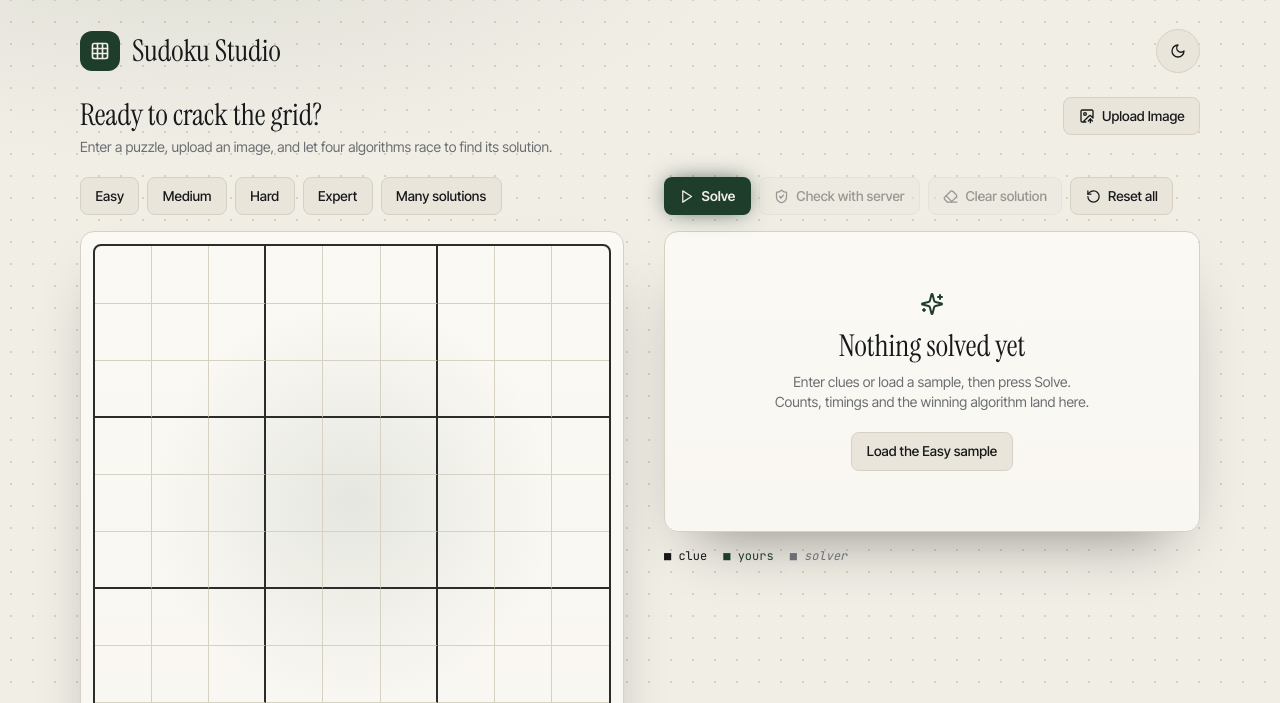
Test: App Integration - Upload Sudoku Image Workflow › switches to the Upload workspace and preserves board state
The width and height of the screenshot is (1280, 703).
# Load easy sample
Click the button "Easy" at (110,196), box [80,177,139,215]
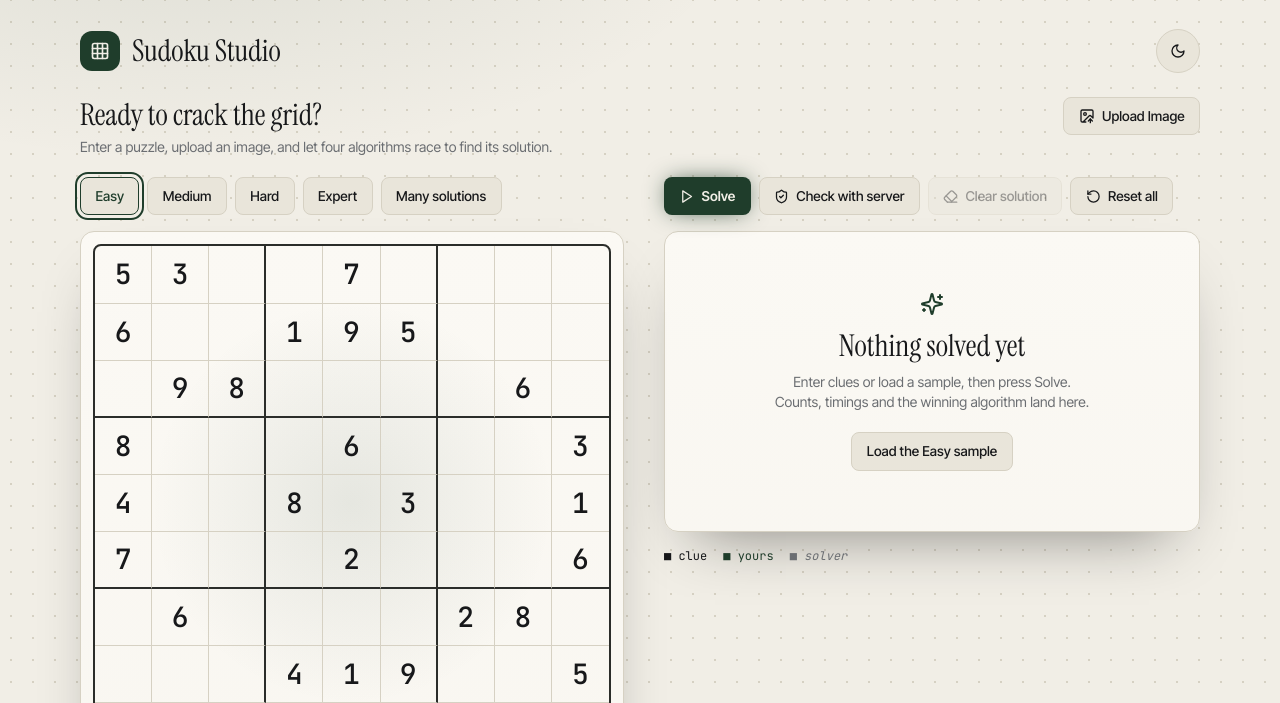
# Click "Upload Image"
Click the button with aria-label "Upload Sudoku Image" at (1132,116), box [1063,97,1200,135]
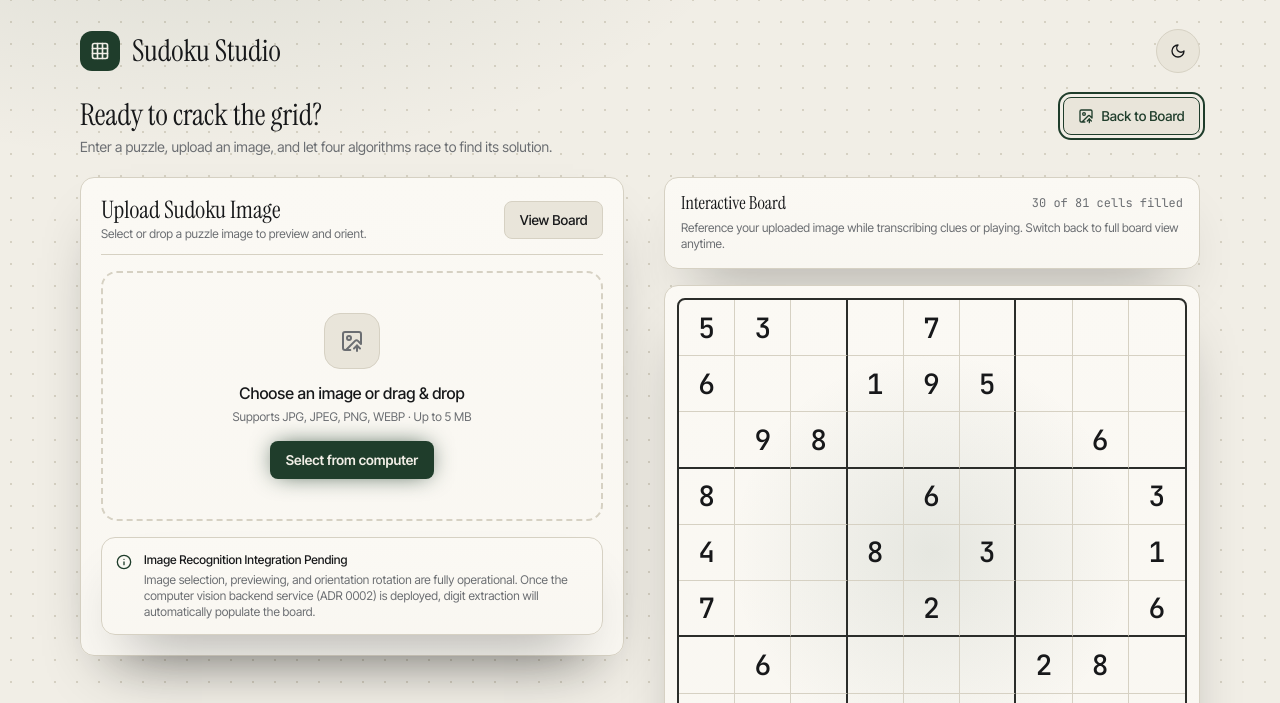
Expected: the heading "Upload Sudoku Image" is shown, [101,194,280,225]
Expected: the button with test id "upload-dropzone" is shown, [101,271,603,521]
Expected: the heading "Interactive Board" is shown, [681,194,786,212]
# Switch back to board
Click the button "Back to Board" at (1132,116), box [1063,97,1200,135]
(page scrolled)
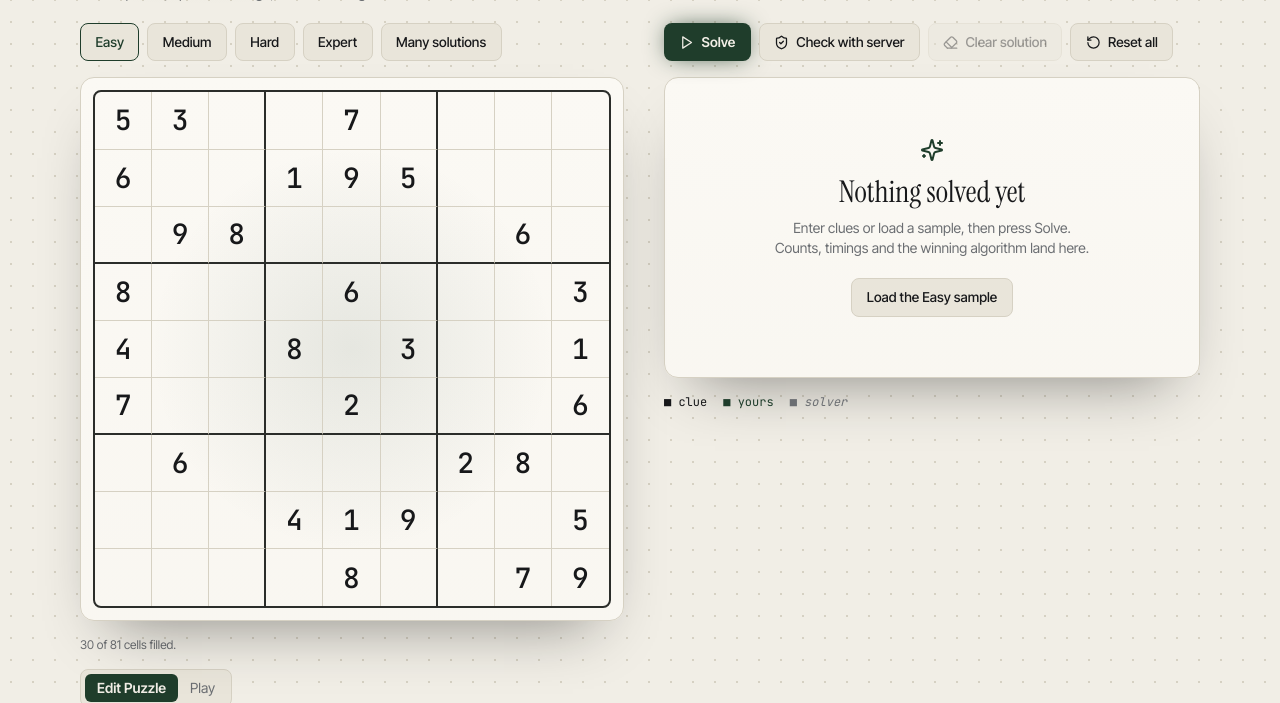
Expected: the table named "Sudoku board" is shown, [93,90,611,608]
Expected: the button "Solve" is shown, [664,23,751,61]
